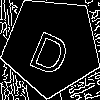D: (26, 21, 77, 78)
